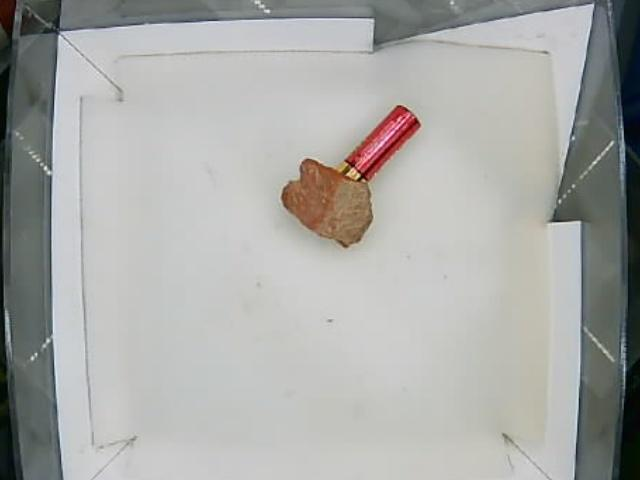Battery: (338, 106, 423, 182)
Brisk: (285, 158, 375, 246)
